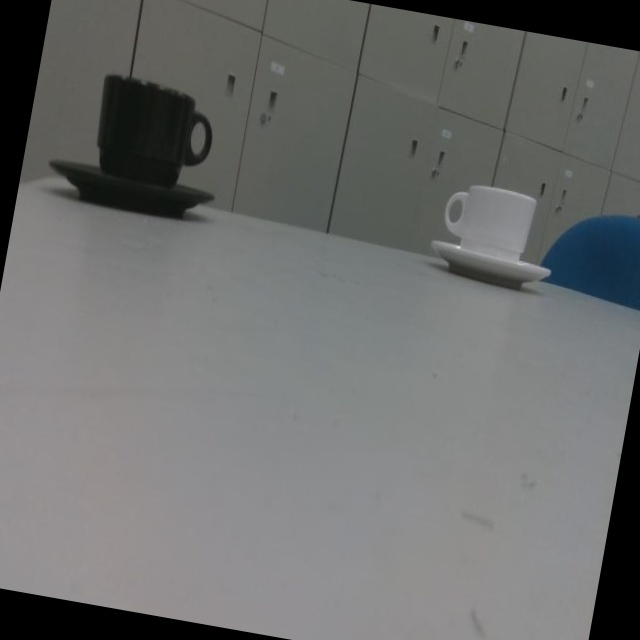black: (52, 77, 224, 213)
white: (430, 184, 557, 287)
